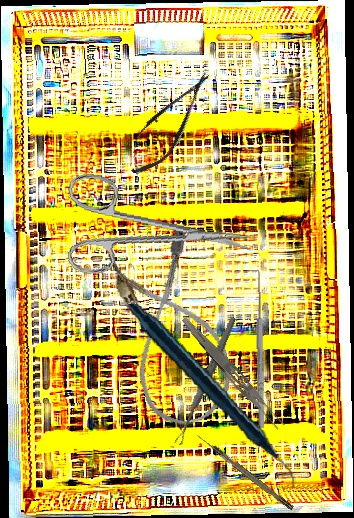Cannula: (103, 225, 243, 435)
Dressing Forceps: (176, 315, 288, 433)
Handpiece: (125, 286, 298, 506)
Hook Surgical: (195, 432, 295, 512), (248, 269, 267, 429)
Iris Scissors: (57, 171, 259, 296)
Micro Scissor: (117, 62, 222, 184)
Surgical Spoon: (173, 316, 238, 446)
